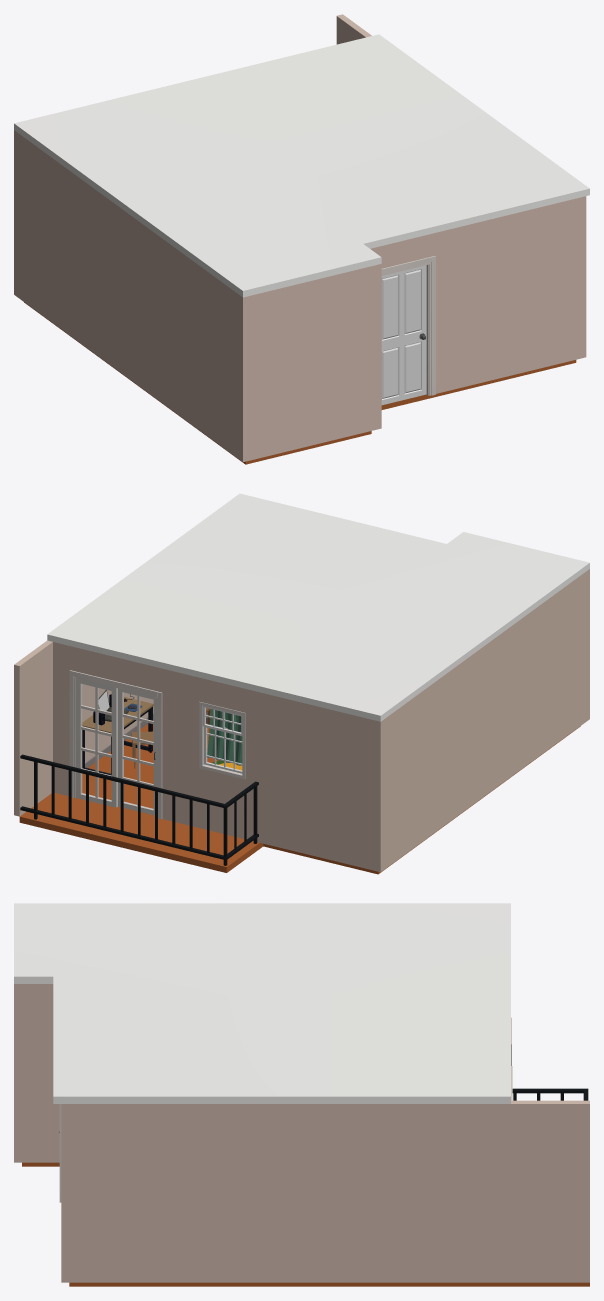
Rendered from Sahne1.fbx.
3 views of the same model, one above another, from view 1: azimuth 30°, elevation 25°; view 2: azimuth 150°, elevation 25°; view 3: azimuth 270°, elevation 25° (orthographic). The views are drawn at different scales.
Visible parts, largest first — view 1: Duvar, Roof, Door_Giris, Door_Giris_Cerceve, Zemin; view 2: Duvar, Roof, Zemin, Balkon_Demir_Dik_1, Balkon_Door_Right, Balkon_Door_Cerceve, Balkon_Door_Left, Plane, Pencere_Cerceve.003, Pencere_Ust.001, Laptop_Desk, Pencere_Ust; view 3: Duvar, Roof, Zemin, Balkon_Demir_Dik_1.
Part boxes in pixels (x1,y1,x2,y2): Duvar: (14,14,586,462); Roof: (14,34,589,297); Door_Giris: (381,265,426,405); Door_Giris_Cerceve: (381,256,435,395); Zemin: (24,302,576,464); Duvar: (14,569,589,872); Roof: (47,493,589,721); Zemin: (19,720,580,874); Balkon_Demir_Dik_1: (20,754,258,865); Balkon_Door_Right: (76,678,117,807); Balkon_Door_Cerceve: (69,670,162,819); Balkon_Door_Left: (118,688,155,815); Plane: (207,709,242,765); Pencere_Cerceve.003: (199,701,245,779); Pencere_Ust.001: (204,726,242,773); Laptop_Desk: (82,697,153,733); Pencere_Ust: (202,706,242,735); Duvar: (14,984,589,1282); Roof: (14,903,510,1103); Zemin: (22,1162,589,1286); Balkon_Demir_Dik_1: (512,1088,588,1100).
Size of the model in its own units: 580 by 270 by 730.
1 material, 1 textured.
